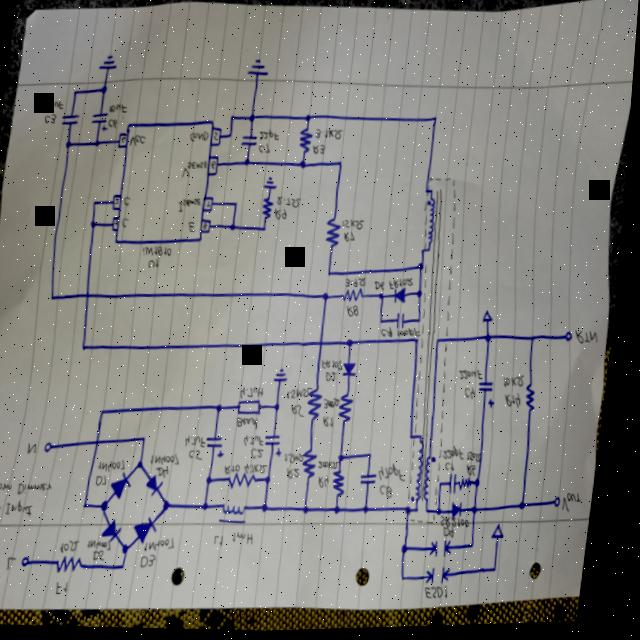capacitor: (482, 384, 503, 412), (211, 437, 233, 460), (270, 436, 291, 460), (92, 112, 112, 134), (365, 474, 385, 491), (242, 135, 261, 150), (62, 114, 82, 127), (455, 475, 466, 498), (400, 314, 412, 333)
crossover: (87, 291, 97, 302), (101, 439, 107, 448), (324, 341, 330, 349)
diode: (139, 514, 167, 548), (117, 472, 140, 501), (109, 519, 132, 545), (152, 475, 172, 499), (398, 289, 412, 308), (457, 504, 470, 523), (347, 364, 363, 379)
ground: (246, 59, 273, 81), (98, 54, 120, 73), (278, 370, 296, 386), (499, 526, 515, 544), (265, 178, 281, 193), (486, 312, 500, 328)
inductor: (417, 443, 435, 506), (428, 200, 449, 249), (226, 504, 257, 527), (428, 458, 443, 505), (242, 401, 268, 418)
junction: (300, 161, 310, 173), (325, 293, 335, 305), (108, 501, 118, 513), (408, 547, 418, 558), (129, 546, 139, 556), (411, 509, 421, 519), (432, 118, 442, 128), (249, 115, 259, 125), (533, 337, 543, 347), (88, 502, 98, 512), (84, 343, 93, 354), (212, 477, 221, 488), (104, 408, 113, 419), (101, 86, 110, 97), (170, 501, 178, 513), (489, 336, 498, 346), (66, 140, 75, 150), (369, 507, 378, 517), (525, 505, 534, 515), (92, 220, 101, 230), (52, 293, 61, 303), (246, 159, 254, 169), (339, 161, 347, 171), (479, 509, 487, 519), (147, 435, 155, 445), (481, 481, 489, 491), (269, 505, 276, 515), (96, 140, 103, 149), (341, 508, 348, 517), (280, 405, 287, 413), (73, 89, 80, 97), (374, 454, 381, 462), (144, 461, 151, 469), (477, 545, 484, 553), (330, 271, 337, 279), (383, 296, 390, 304), (443, 510, 450, 518), (352, 341, 359, 349), (310, 508, 317, 516), (210, 504, 217, 512), (95, 200, 101, 209), (264, 227, 270, 236), (422, 266, 428, 274), (234, 225, 240, 233), (421, 293, 427, 301), (231, 115, 237, 123), (501, 570, 507, 578), (128, 564, 134, 572), (432, 510, 438, 518), (409, 577, 415, 585), (383, 320, 389, 328), (422, 319, 428, 327), (223, 406, 229, 414), (272, 478, 278, 486), (307, 116, 313, 124), (345, 456, 351, 464), (229, 134, 235, 141), (236, 202, 241, 209), (420, 340, 425, 346), (441, 341, 446, 347), (424, 252, 429, 258), (432, 192, 437, 198), (416, 436, 420, 443), (446, 485, 451, 490), (431, 250, 435, 256), (427, 191, 431, 197), (426, 437, 430, 443)
resistor: (61, 556, 93, 577), (307, 450, 327, 482), (326, 219, 346, 251), (311, 389, 329, 424), (233, 473, 265, 492), (343, 395, 361, 426), (529, 385, 545, 417), (338, 472, 355, 500), (346, 289, 370, 307), (300, 129, 316, 156), (263, 198, 279, 224), (464, 479, 480, 495)
terminal: (568, 335, 579, 347), (50, 442, 60, 454), (29, 557, 39, 568), (561, 500, 569, 512)
text: (0, 480, 61, 500), (0, 498, 41, 519), (151, 537, 185, 556), (385, 465, 415, 486), (184, 160, 212, 182), (432, 587, 460, 605), (238, 531, 264, 550), (145, 245, 177, 260), (579, 332, 605, 350), (180, 198, 206, 216), (570, 496, 591, 518), (104, 459, 134, 474), (317, 129, 347, 144), (447, 518, 479, 532), (156, 454, 188, 468), (464, 371, 489, 386), (449, 448, 474, 463), (508, 378, 531, 394), (245, 388, 271, 402), (291, 389, 319, 402), (260, 130, 283, 145), (289, 453, 312, 468), (510, 395, 529, 413), (279, 198, 305, 211), (392, 280, 418, 293), (242, 418, 266, 432), (345, 220, 369, 234), (95, 540, 120, 553), (148, 554, 167, 571), (45, 99, 68, 113), (190, 436, 213, 450), (250, 436, 272, 450), (109, 103, 131, 117), (68, 540, 88, 555), (250, 465, 275, 477), (191, 131, 212, 145), (324, 461, 346, 474), (326, 361, 349, 373), (402, 330, 427, 341), (386, 486, 402, 502), (349, 279, 371, 290), (259, 143, 275, 158), (161, 466, 177, 481), (473, 453, 490, 467), (313, 144, 329, 158), (296, 406, 312, 420), (324, 476, 338, 492), (131, 136, 148, 149), (230, 465, 248, 477), (329, 400, 347, 412), (64, 581, 78, 596), (469, 389, 483, 404), (450, 527, 464, 542), (350, 307, 366, 320), (384, 329, 400, 342), (292, 469, 308, 482), (277, 209, 291, 223), (257, 449, 271, 462), (151, 258, 164, 272), (15, 557, 27, 572), (195, 451, 211, 462), (102, 475, 115, 488), (101, 550, 114, 563), (33, 442, 45, 456), (328, 417, 340, 430), (472, 467, 484, 480), (377, 283, 391, 294), (330, 373, 344, 384), (346, 234, 360, 245), (221, 536, 233, 548), (46, 114, 59, 125), (452, 464, 463, 475), (109, 119, 120, 130), (126, 197, 135, 209), (191, 223, 200, 235), (124, 219, 134, 229), (214, 133, 222, 143), (213, 162, 219, 172), (123, 136, 129, 144), (209, 202, 214, 210), (207, 225, 211, 232), (118, 219, 122, 226), (118, 199, 122, 206)
